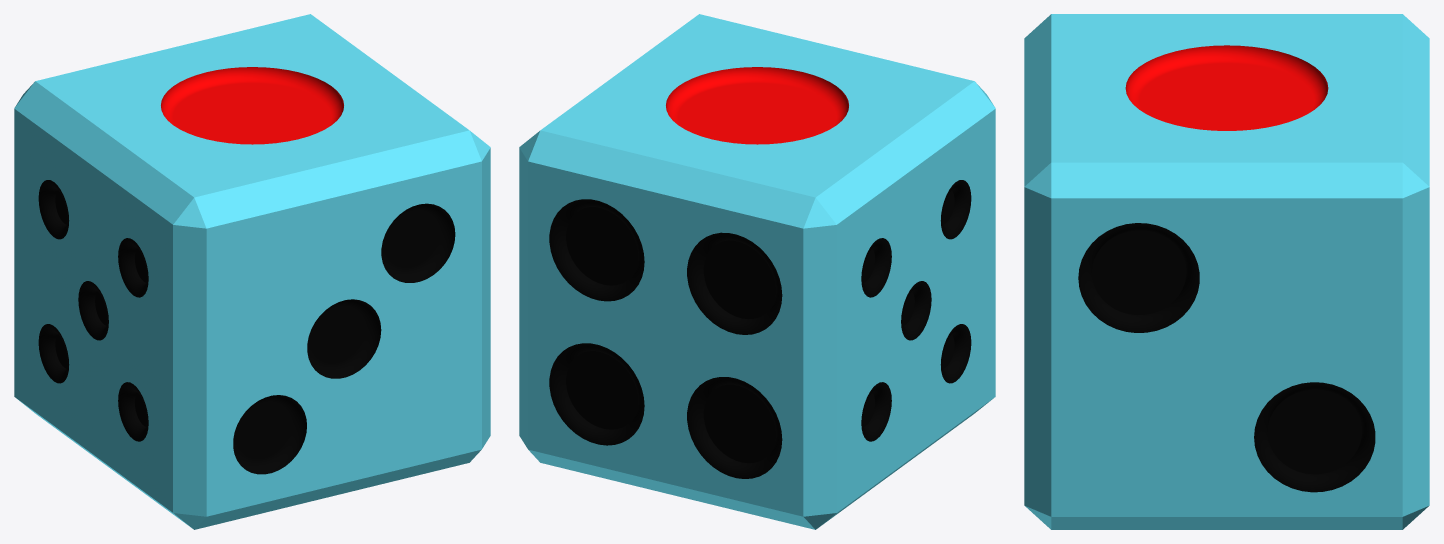
The model's file is Saikoro.glb.
3 views of the same model, side by side, from view 1: azimuth 30°, elevation 25°; view 2: azimuth 150°, elevation 25°; view 3: azimuth 270°, elevation 25° (orthographic). The views are drawn at different scales.
Parts seen in each view (by area): view 1: Saikoro; view 2: Saikoro; view 3: Saikoro.
Part boxes in pixels (x1,y1,x2,y2): Saikoro: (14, 14, 490, 529); Saikoro: (519, 14, 995, 529); Saikoro: (1024, 14, 1429, 529).
Bounding box in the file's own units: 0.03 × 0.03 × 0.03.
